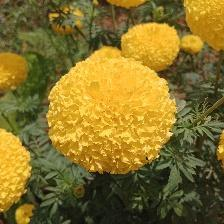marigold: (47, 56, 180, 177)
